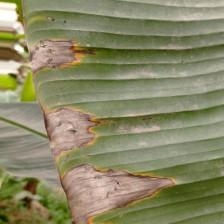cordana: (22, 0, 224, 224)
